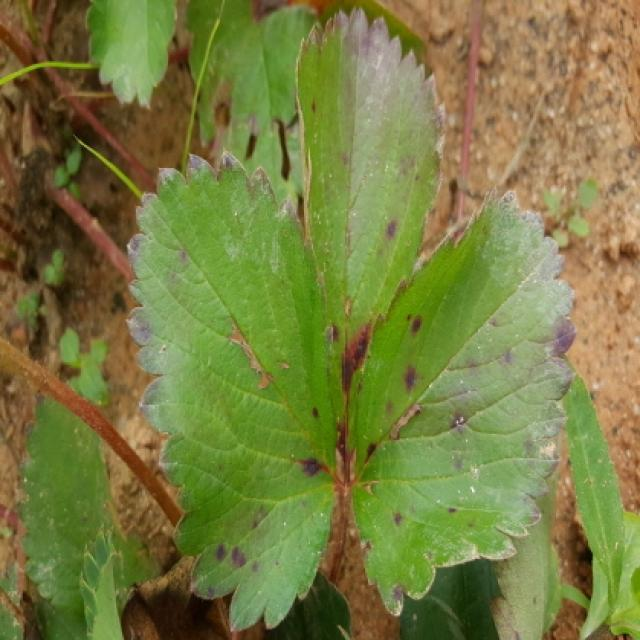Leaf Spot: (123, 146, 337, 634), (344, 184, 578, 618), (296, 2, 445, 477)
